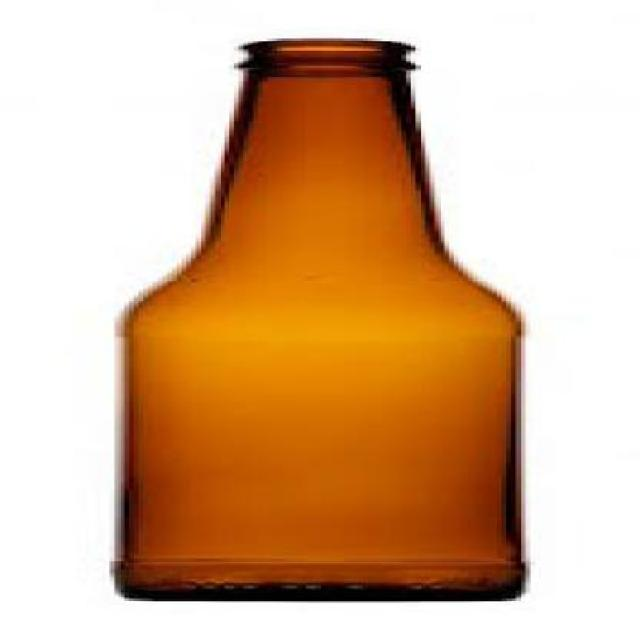kaca: (116, 38, 526, 600)
